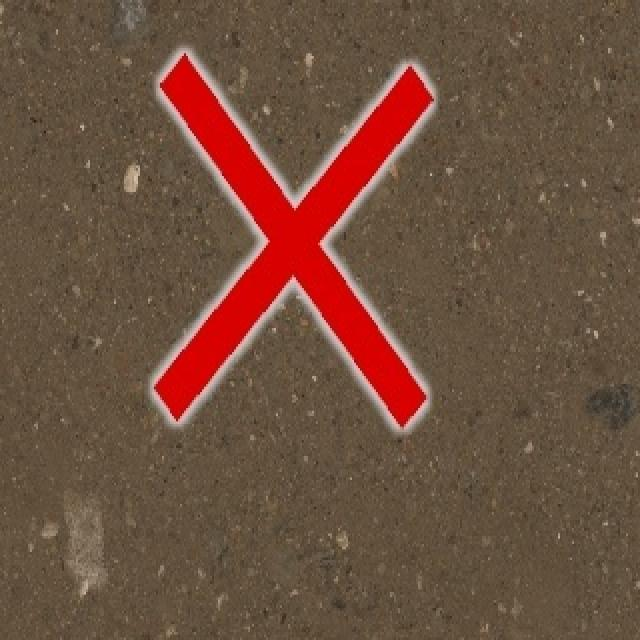x_marker: (153, 52, 431, 425)
